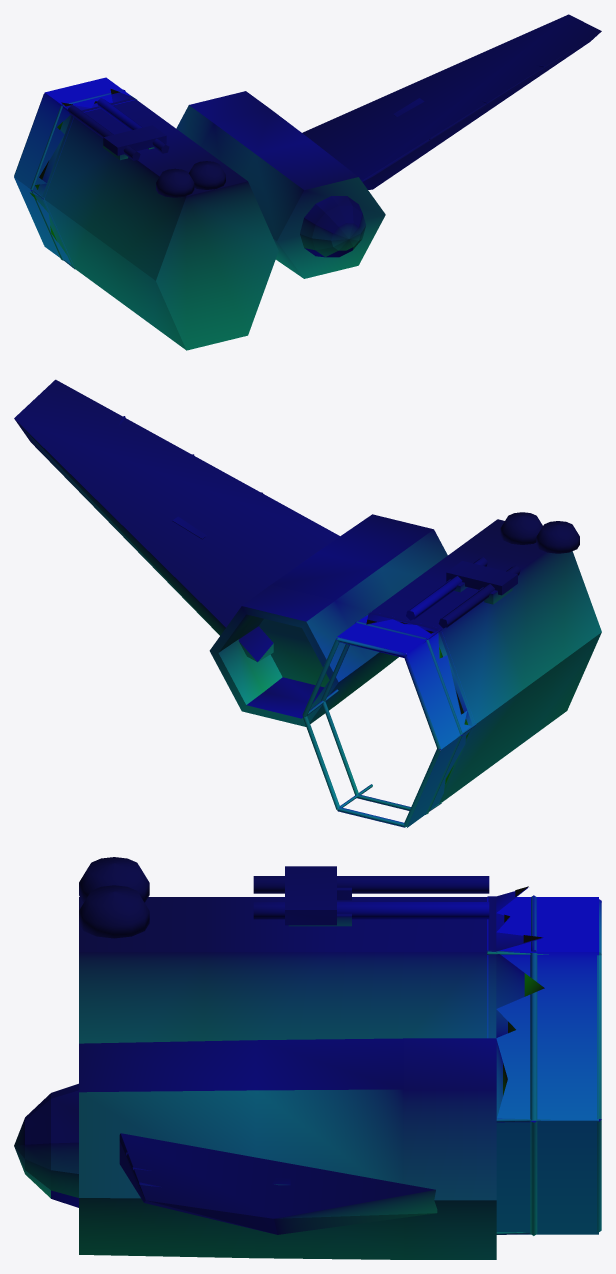
The model's file is crashwing.glb.
3 views of the same model, one above another, from view 1: azimuth 30°, elevation 25°; view 2: azimuth 150°, elevation 25°; view 3: azimuth 270°, elevation 25° (orthographic). The views are drawn at different scales.
Visible parts, largest first — view 1: lod0; view 2: lod0; view 3: lod0.
Boxes of the visible parts, x1,y1,x2,y2 form: lod0: [14, 14, 601, 350]; lod0: [14, 379, 601, 827]; lod0: [14, 857, 601, 1259].
Size of what is drawn, in the model's own units: 53.49 by 21.92 by 31.67.
